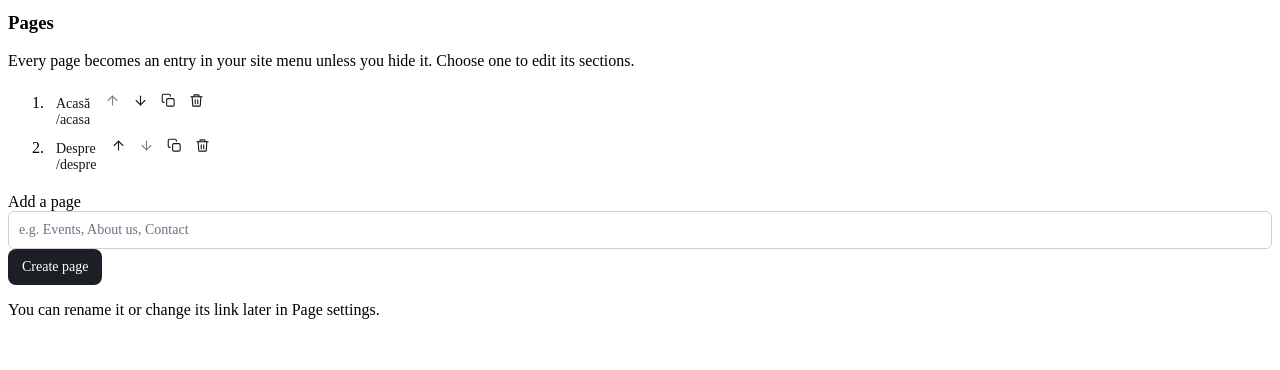
it: PagesList component › submitting a duplicate slug for the default language shows an error
Type "acasa" into the field with test id "pages-list-add-slug". click: [640, 230]
box: x1=8 y1=211 x2=1272 y2=249
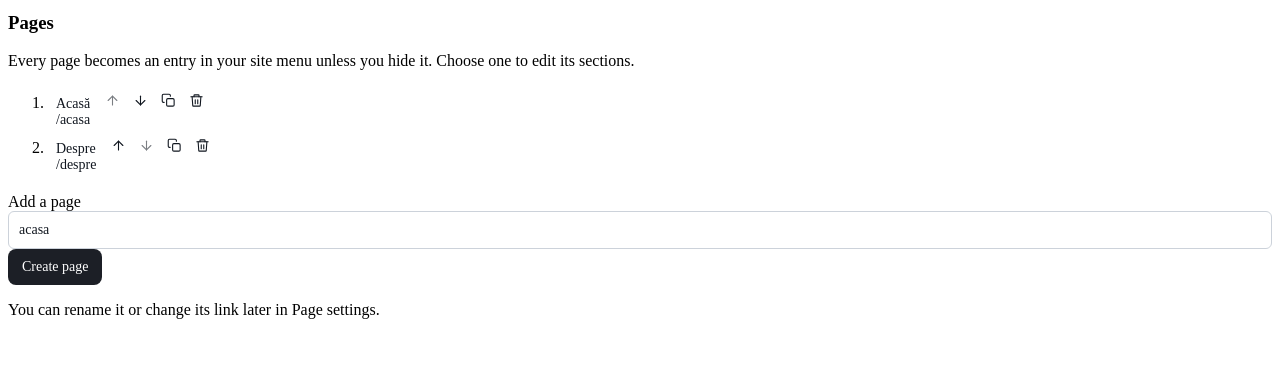
Click the button "Create page". click: [55, 267]
box: x1=8 y1=249 x2=102 y2=285
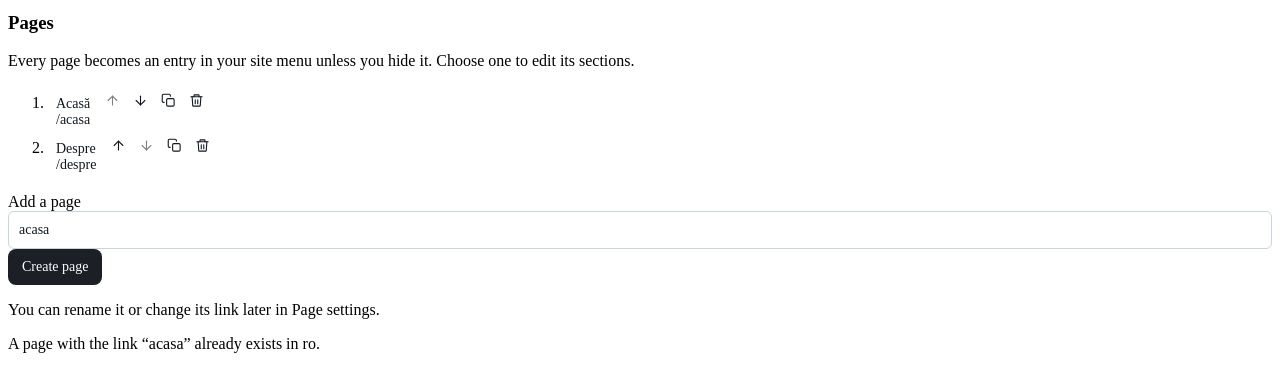
Now the message "A page with the link “acasa” already exists in ro." is shown, box x1=8 y1=335 x2=320 y2=352
